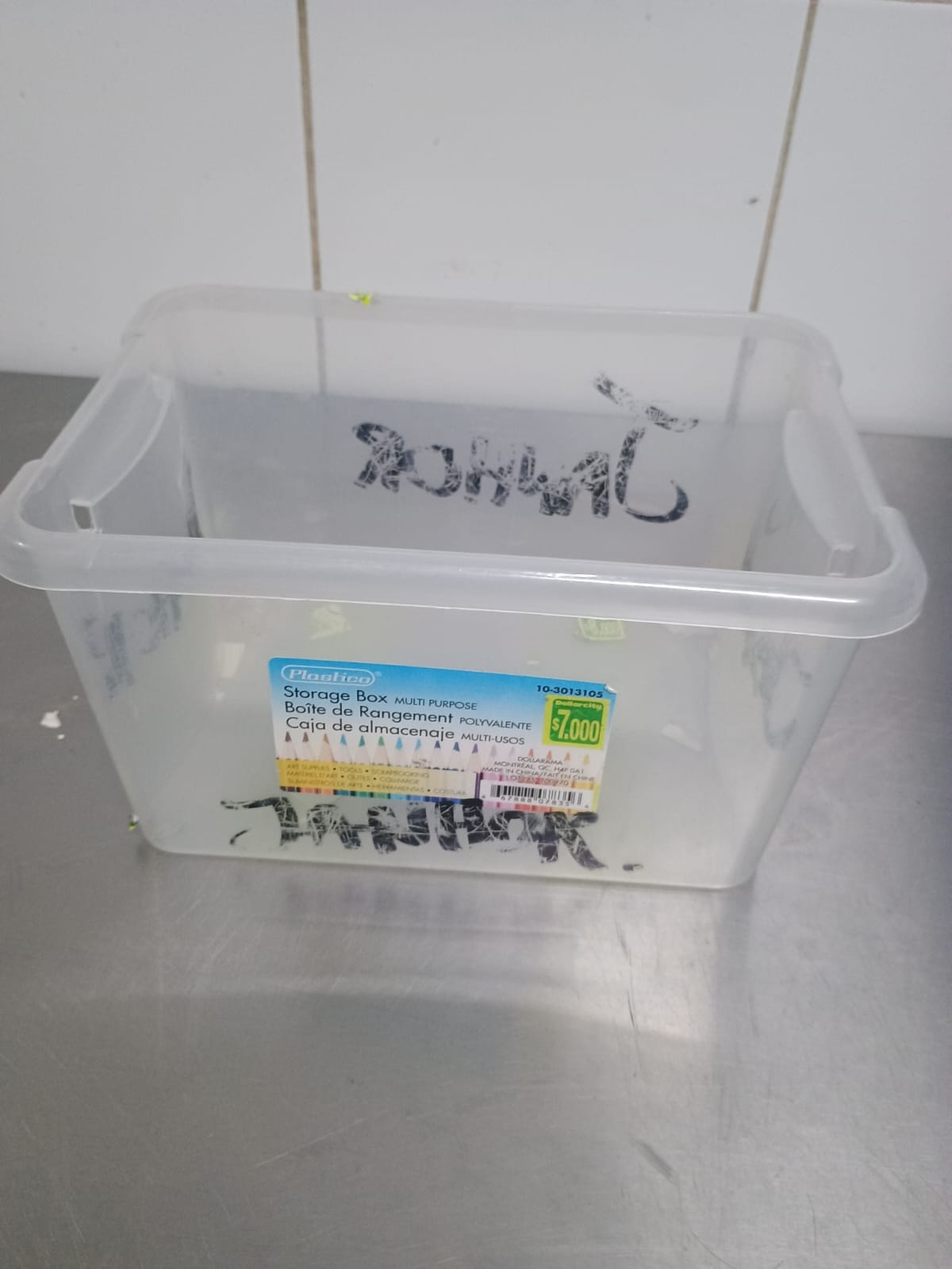Plastico: (0, 285, 926, 892)
